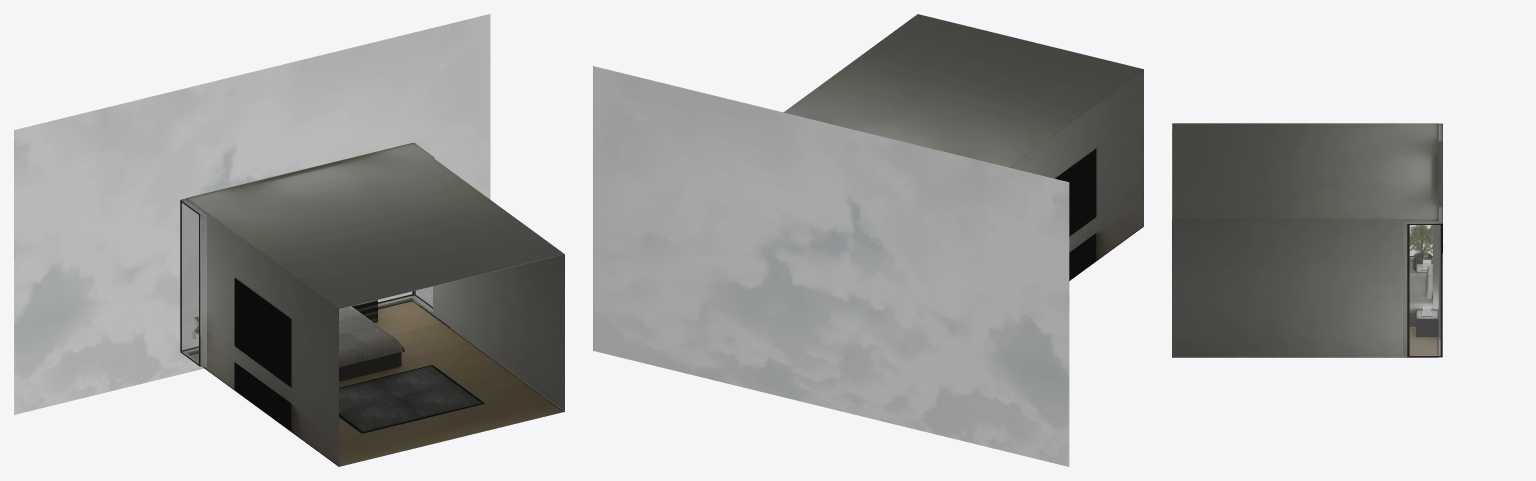
File: room-bedroom-minimal.glb
3 renders of one model, left to right at view 1: azimuth 30°, elevation 25°; view 2: azimuth 150°, elevation 25°; view 3: azimuth 270°, elevation 25°, orthographic. The views are drawn at different scales.
Parts seen in each view (by area): view 1: Bedroom_Bedroom_0, Bedroom_Carpet_0, Bedroom_Windows_0, Bedroom_Duvet_0; view 2: Bedroom_Bedroom_0; view 3: Bedroom_Bedroom_0, Bedroom_Windows_0, Bedroom_Duvet_0.
Boxes of the visible parts, <box> form: Bedroom_Bedroom_0: <box>14,14,564,466</box>; Bedroom_Carpet_0: <box>339,365,484,433</box>; Bedroom_Windows_0: <box>181,203,432,363</box>; Bedroom_Duvet_0: <box>339,306,404,367</box>; Bedroom_Bedroom_0: <box>593,14,1143,466</box>; Bedroom_Bedroom_0: <box>1172,123,1443,357</box>; Bedroom_Windows_0: <box>1409,225,1440,355</box>; Bedroom_Duvet_0: <box>1409,273,1432,312</box>.
Bounding box in the file's own units: 4.5 × 2.57 × 3.27.
4 materials, 3 textured.
